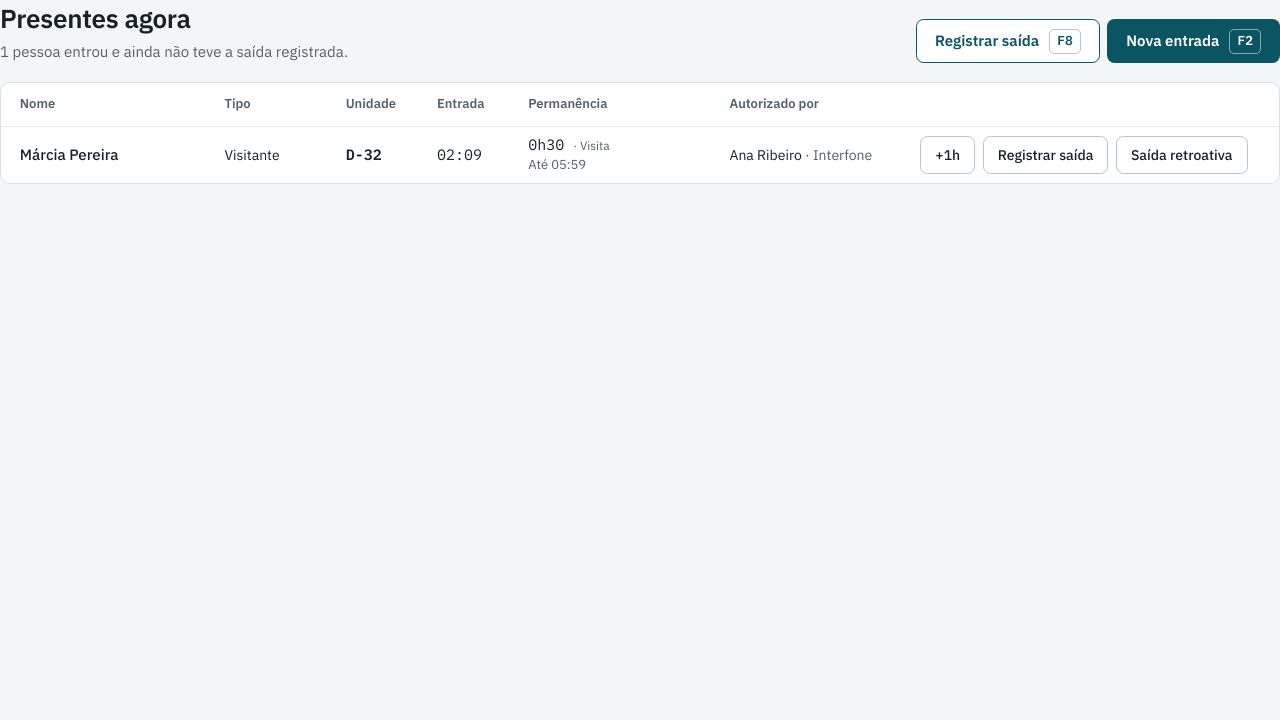
Scenario: Presentes agora: "Registrar saída" pede confirmação › o botão da linha abre a mesma confirmação; só registra ao confirmar
Expected: the row that starts with "Márcia Pereira" is shown, [1,127,1279,183]
Click the button "Registrar saída": [1046, 155] box [983,136,1108,174]
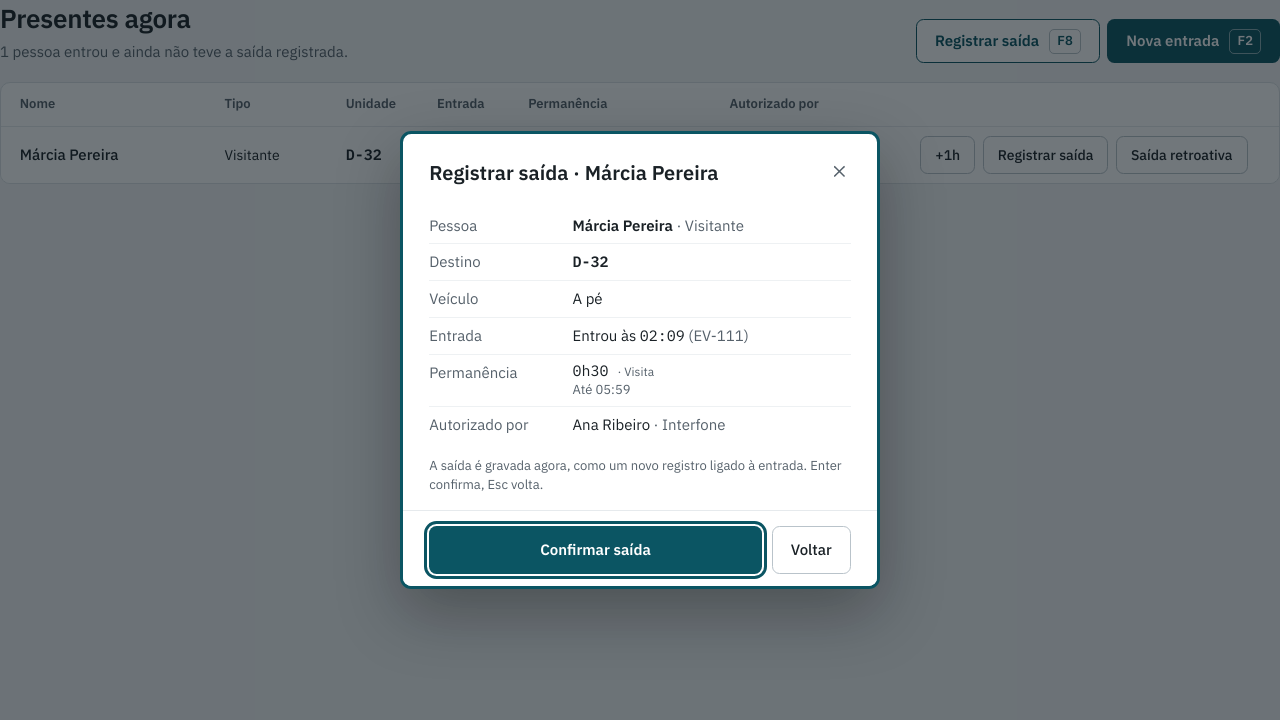
Click the button "Confirmar saída": [596, 550] box [429,526,762,574]
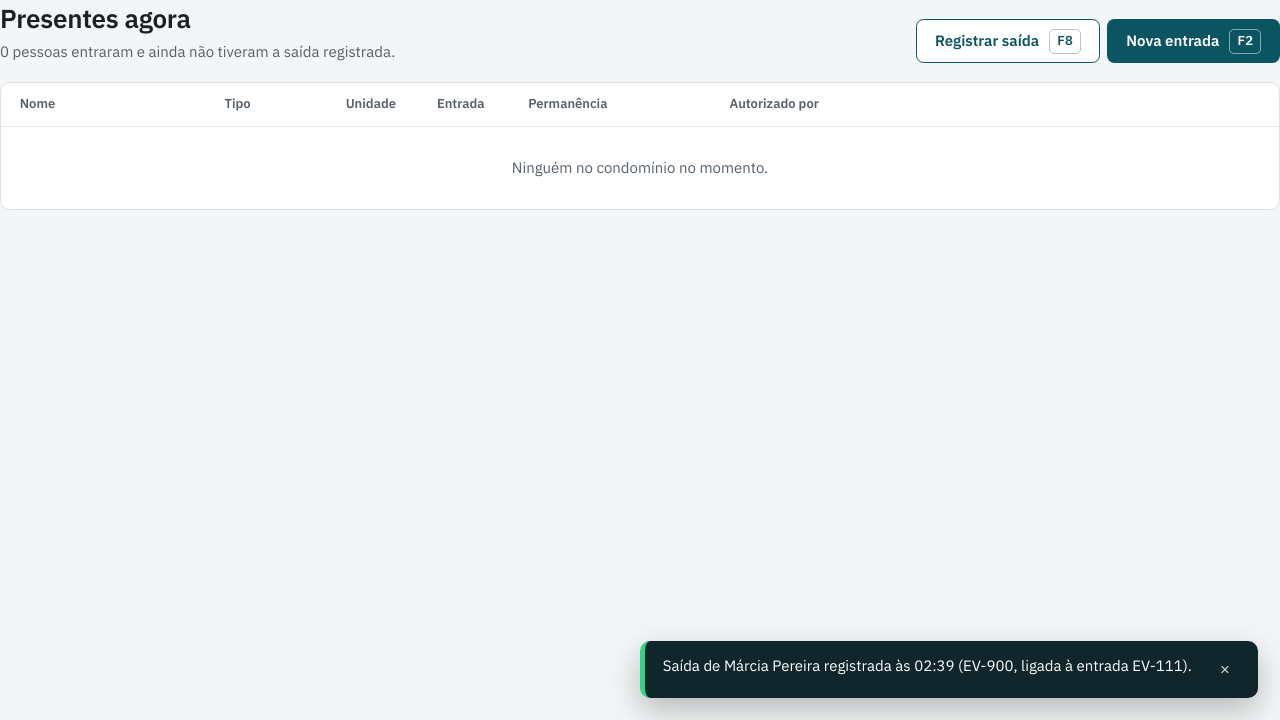
Expected: the text "Saída de Márcia Pereira registrada" is shown, [663,656,1192,674]
